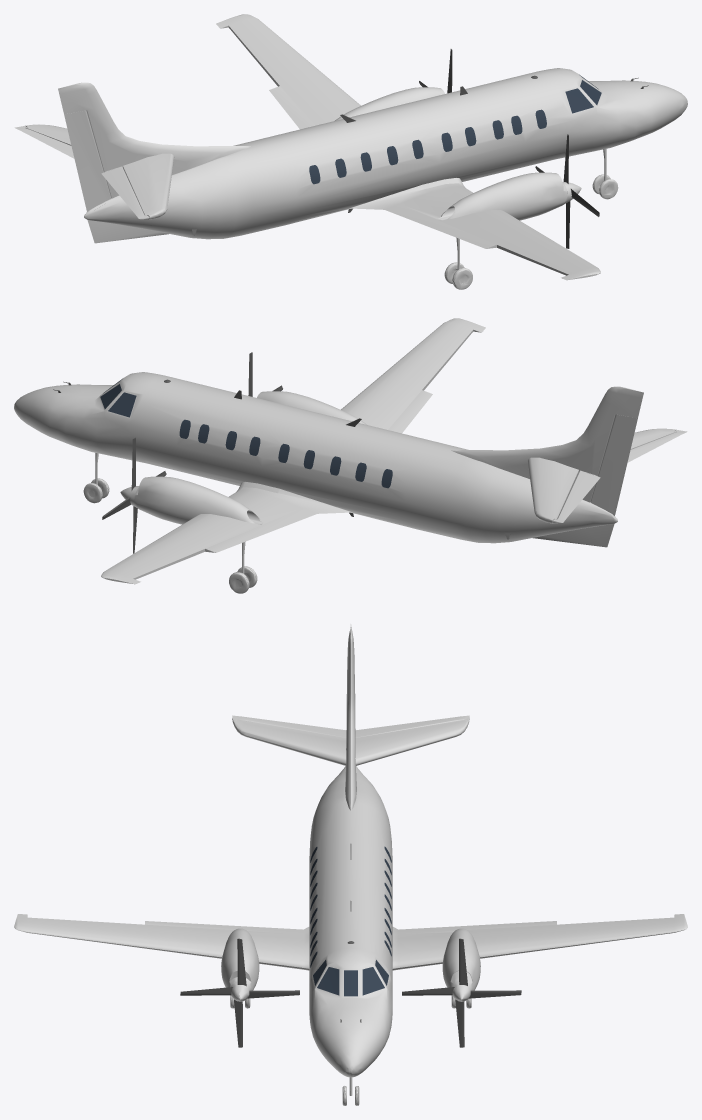
3 renders of one model, top to bottom at view 1: azimuth 30°, elevation 25°; view 2: azimuth 150°, elevation 25°; view 3: azimuth 270°, elevation 25°, orthographic. The views are drawn at different scales.
Parts seen in each view (by area): view 1: body, glass, spin; view 2: body, glass, spin; view 3: body, spin (×2), glass.
Part boxes in pixels (<box>): body: <box>14,14,687,289</box>; glass: <box>309,74,601,184</box>; spin: <box>535,134,599,248</box>; body: <box>14,318,687,593</box>; glass: <box>100,378,392,488</box>; spin: <box>102,437,166,553</box>; body: <box>14,624,687,1105</box>; spin (×2): <box>180,938,521,1047</box>; glass: <box>310,846,391,996</box>.
Size of the model in its own units: 2.2 by 0.807 by 2.15.
